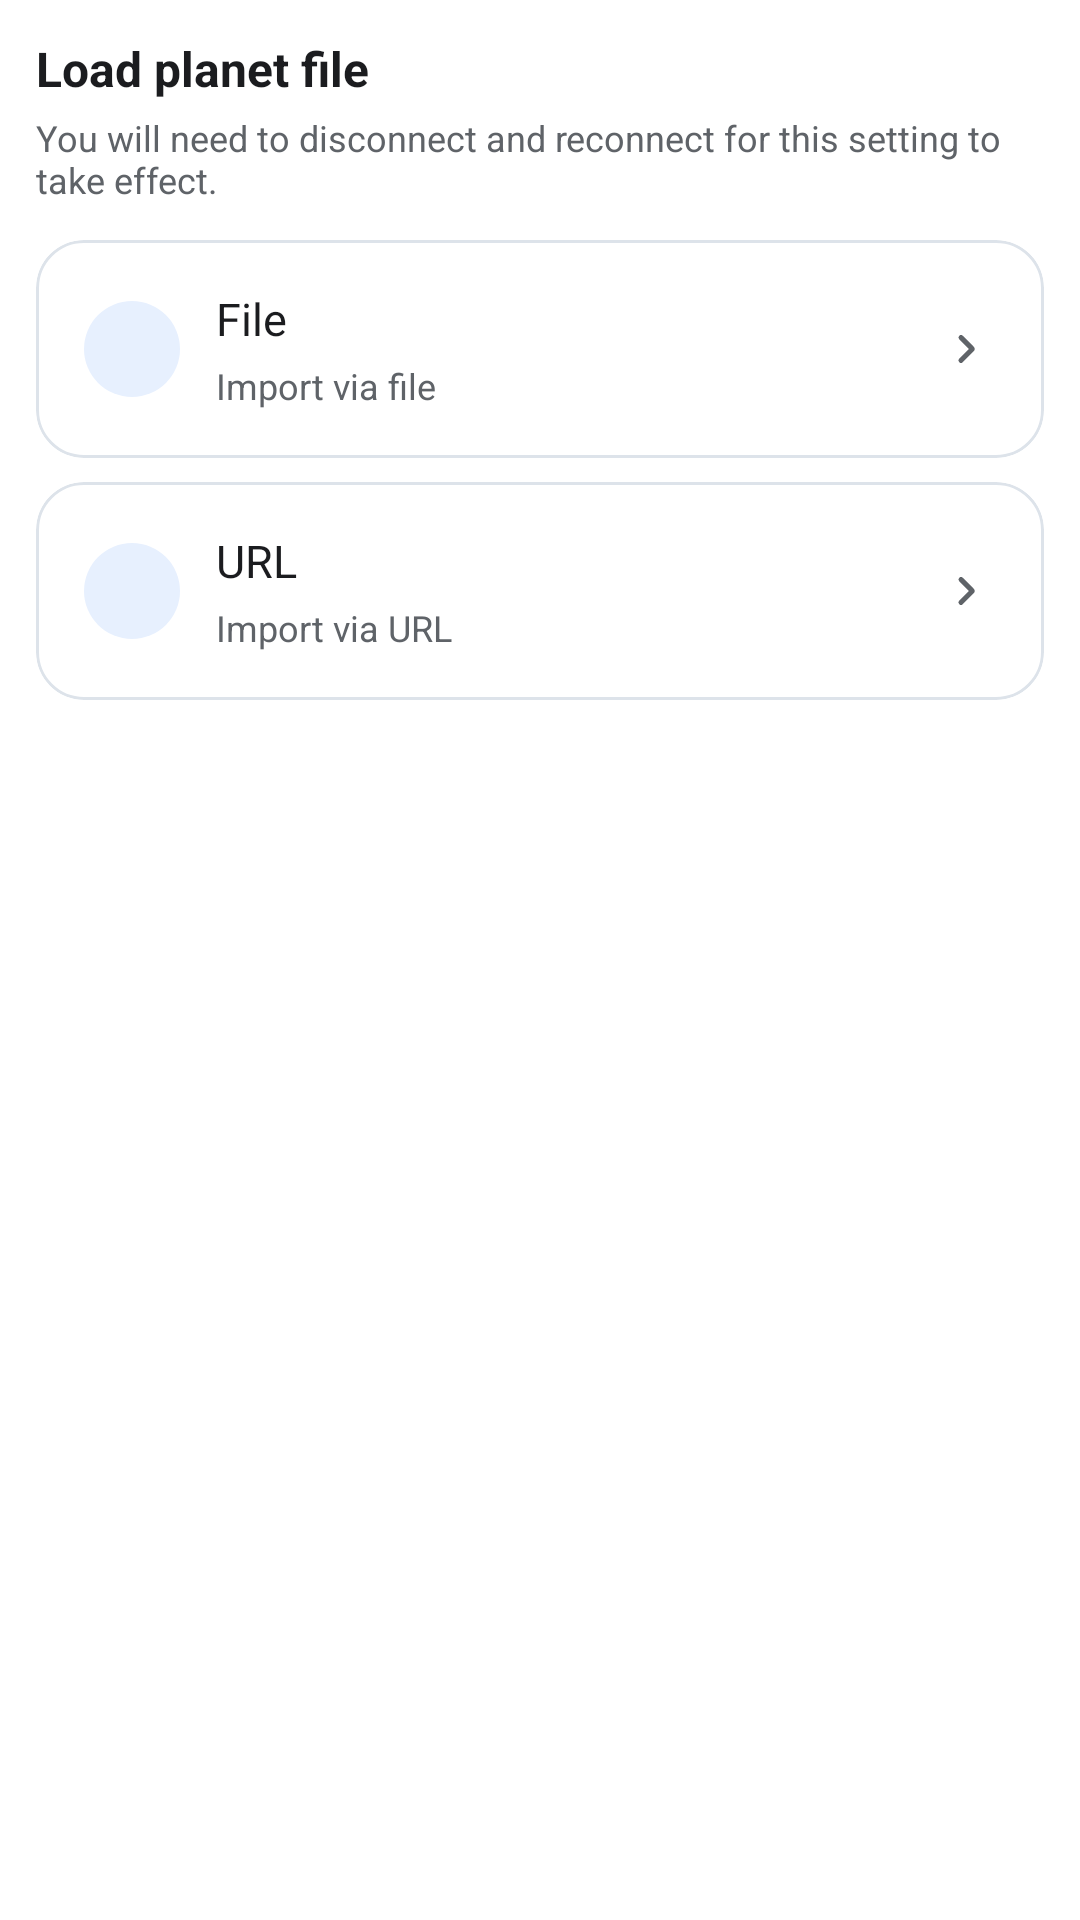

Where icons sit on this 1080px×1920px app screen, as (x1, y1, x2, y2):
chevron right: (958, 335, 975, 363), (958, 577, 975, 605)
